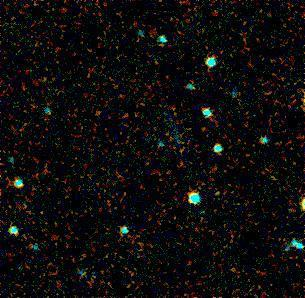star: (203, 179, 233, 209)
